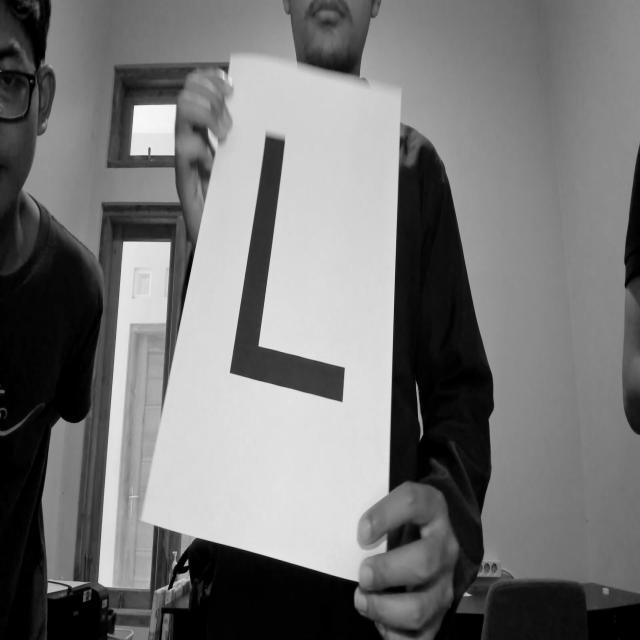l: (220, 116, 365, 431)
